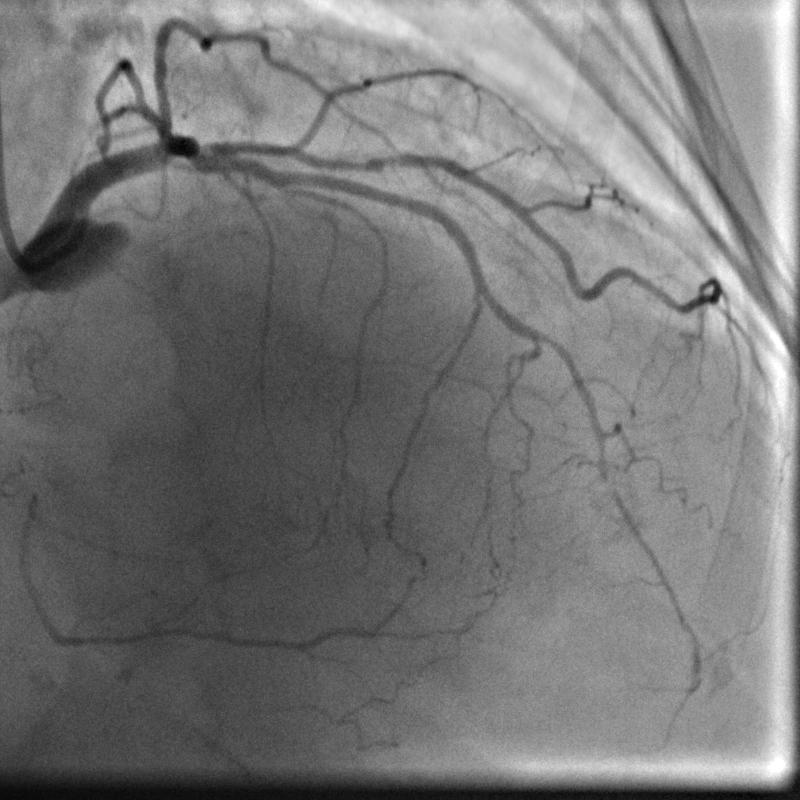Stenosis: (329, 145, 421, 176)
